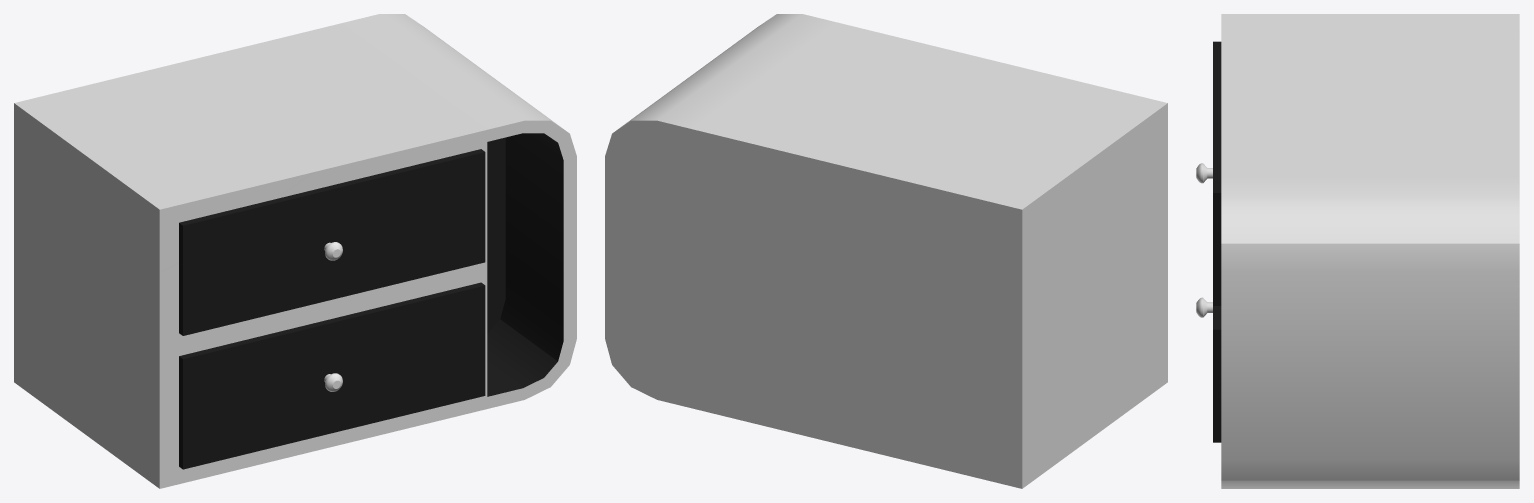
The model's file is Modern drawer.fbx.
The picture shows the model from 3 angles, left to right: view 1: azimuth 30°, elevation 25°; view 2: azimuth 150°, elevation 25°; view 3: azimuth 270°, elevation 25°; orthographic projection. The views are drawn at different scales.
Parts seen in each view (by area): view 1: modern drawer; view 2: modern drawer; view 3: modern drawer.
Boxes of the visible parts, x1,y1,x2,y2 form: modern drawer: (14, 14, 576, 488); modern drawer: (605, 14, 1167, 488); modern drawer: (1196, 14, 1519, 488).
Size of the model in its own units: 95.53 by 61.12 by 62.63.
Materials: 1 (1 with a texture image).
